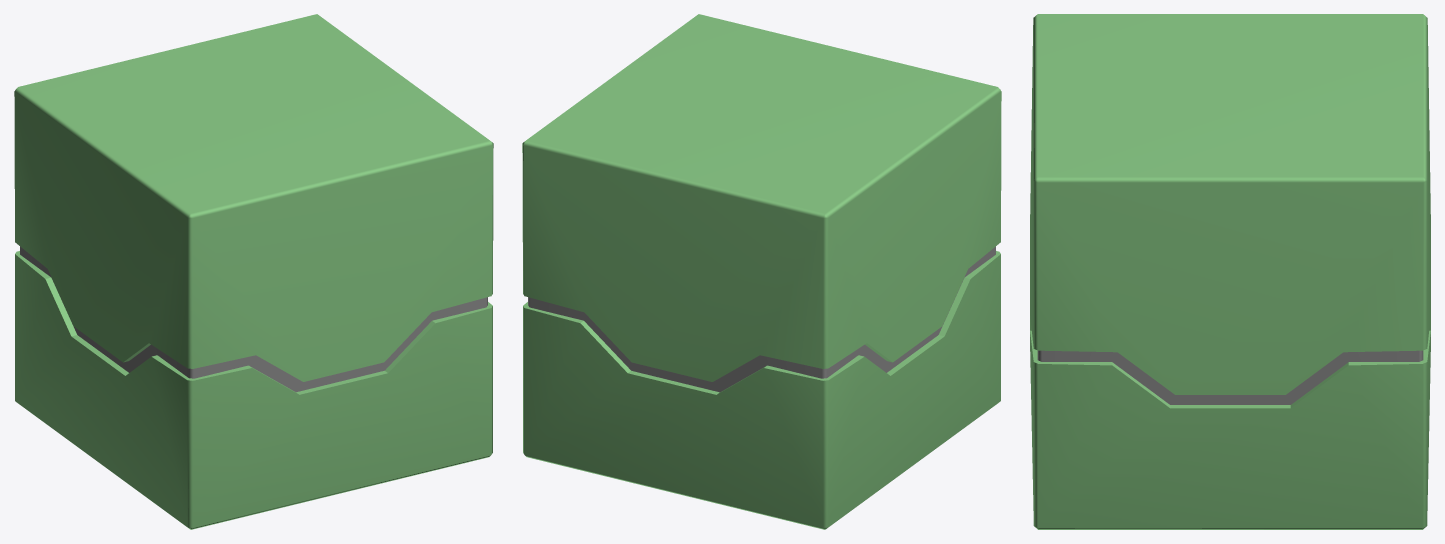
The model's file is MetalBox.fbx.
The picture shows the model from 3 angles, left to right: view 1: azimuth 30°, elevation 25°; view 2: azimuth 150°, elevation 25°; view 3: azimuth 270°, elevation 25°; orthographic projection. The views are drawn at different scales.
Parts seen in each view (by area): view 1: MetalBox1; view 2: MetalBox1; view 3: MetalBox1.
Part boxes in pixels (left/top/right/bottom): MetalBox1: left=14, top=14, right=493, bottom=529; MetalBox1: left=522, top=14, right=1001, bottom=529; MetalBox1: left=1030, top=14, right=1430, bottom=529.
Size of the model in its own units: 125 by 121 by 125.
